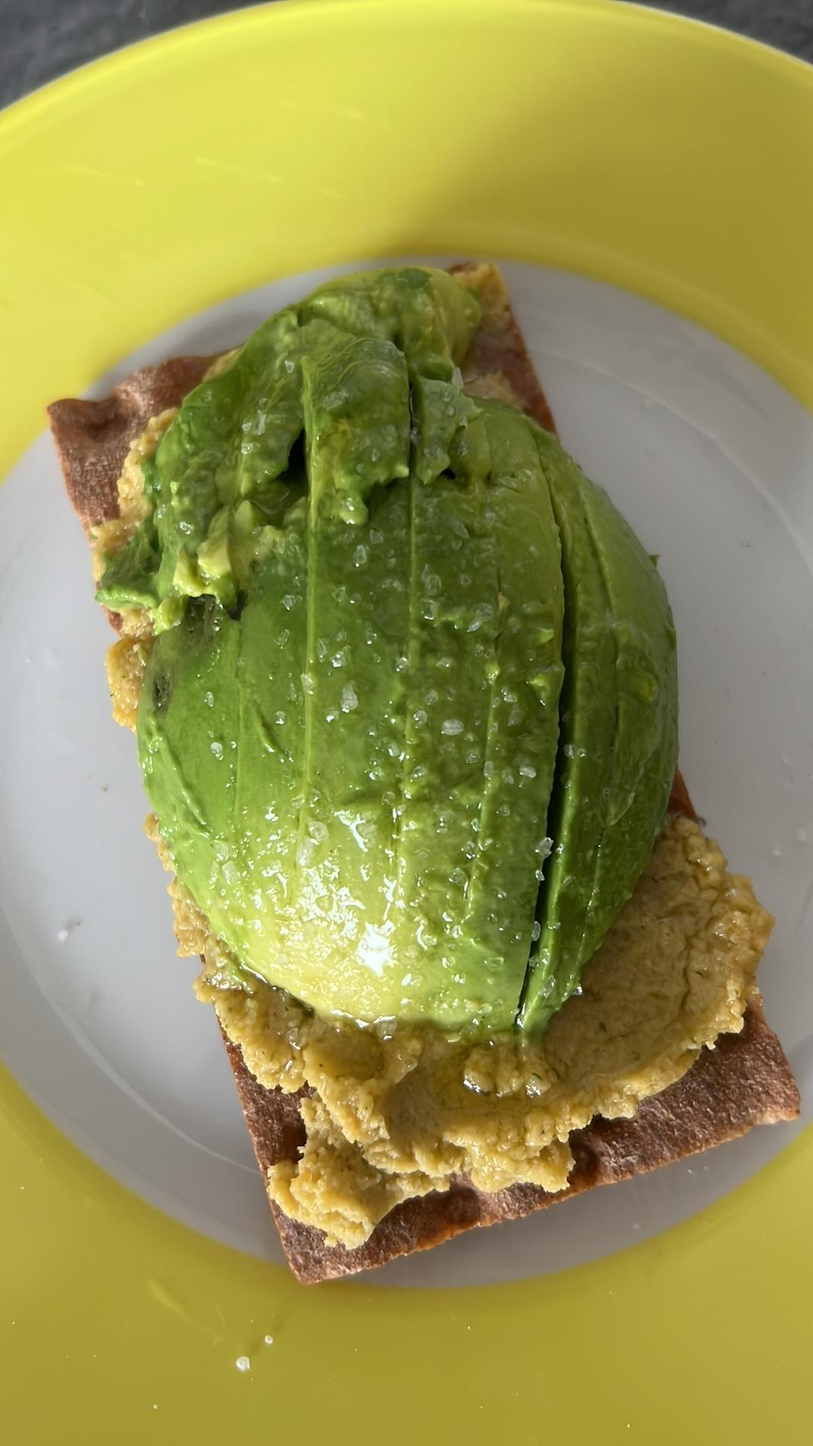avocado: (113, 264, 691, 1020)
